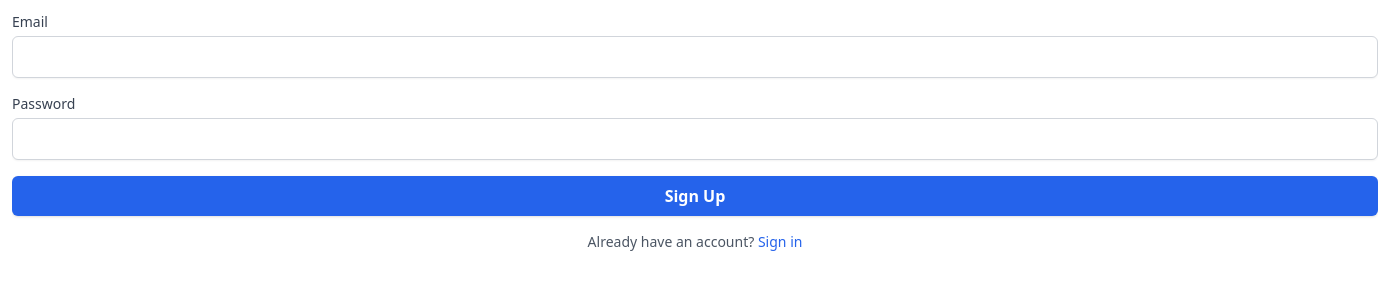
Test: SignUpForm › shows inline error when password is too short
Type "test@example.com" into the field labelled "Email". click: coordinates (695, 57)
box: [12,36,1378,78]
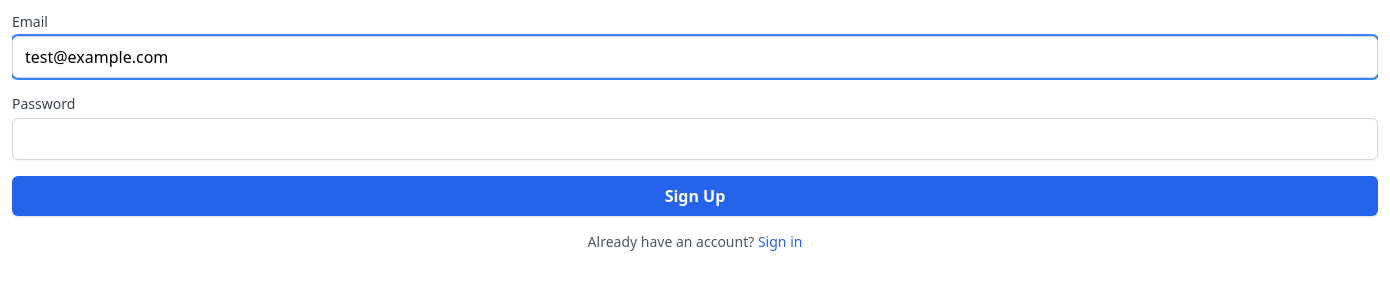
Type "short" into the password field labelled "Password". click: coordinates (695, 139)
box: [12,118,1378,160]
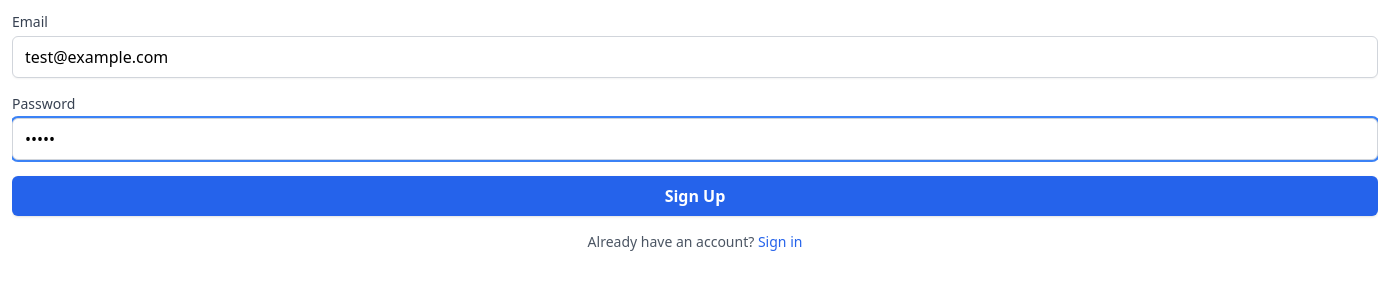
Click the button "Sign Up". click: coordinates (695, 196)
box: [12,176,1378,216]
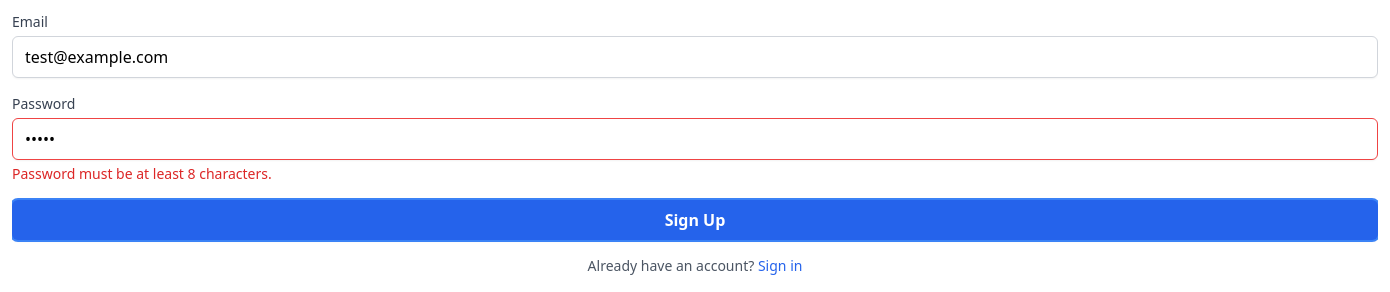
Expected: the text "Password must be at least 8 characters." is shown, [12,164,272,183]
